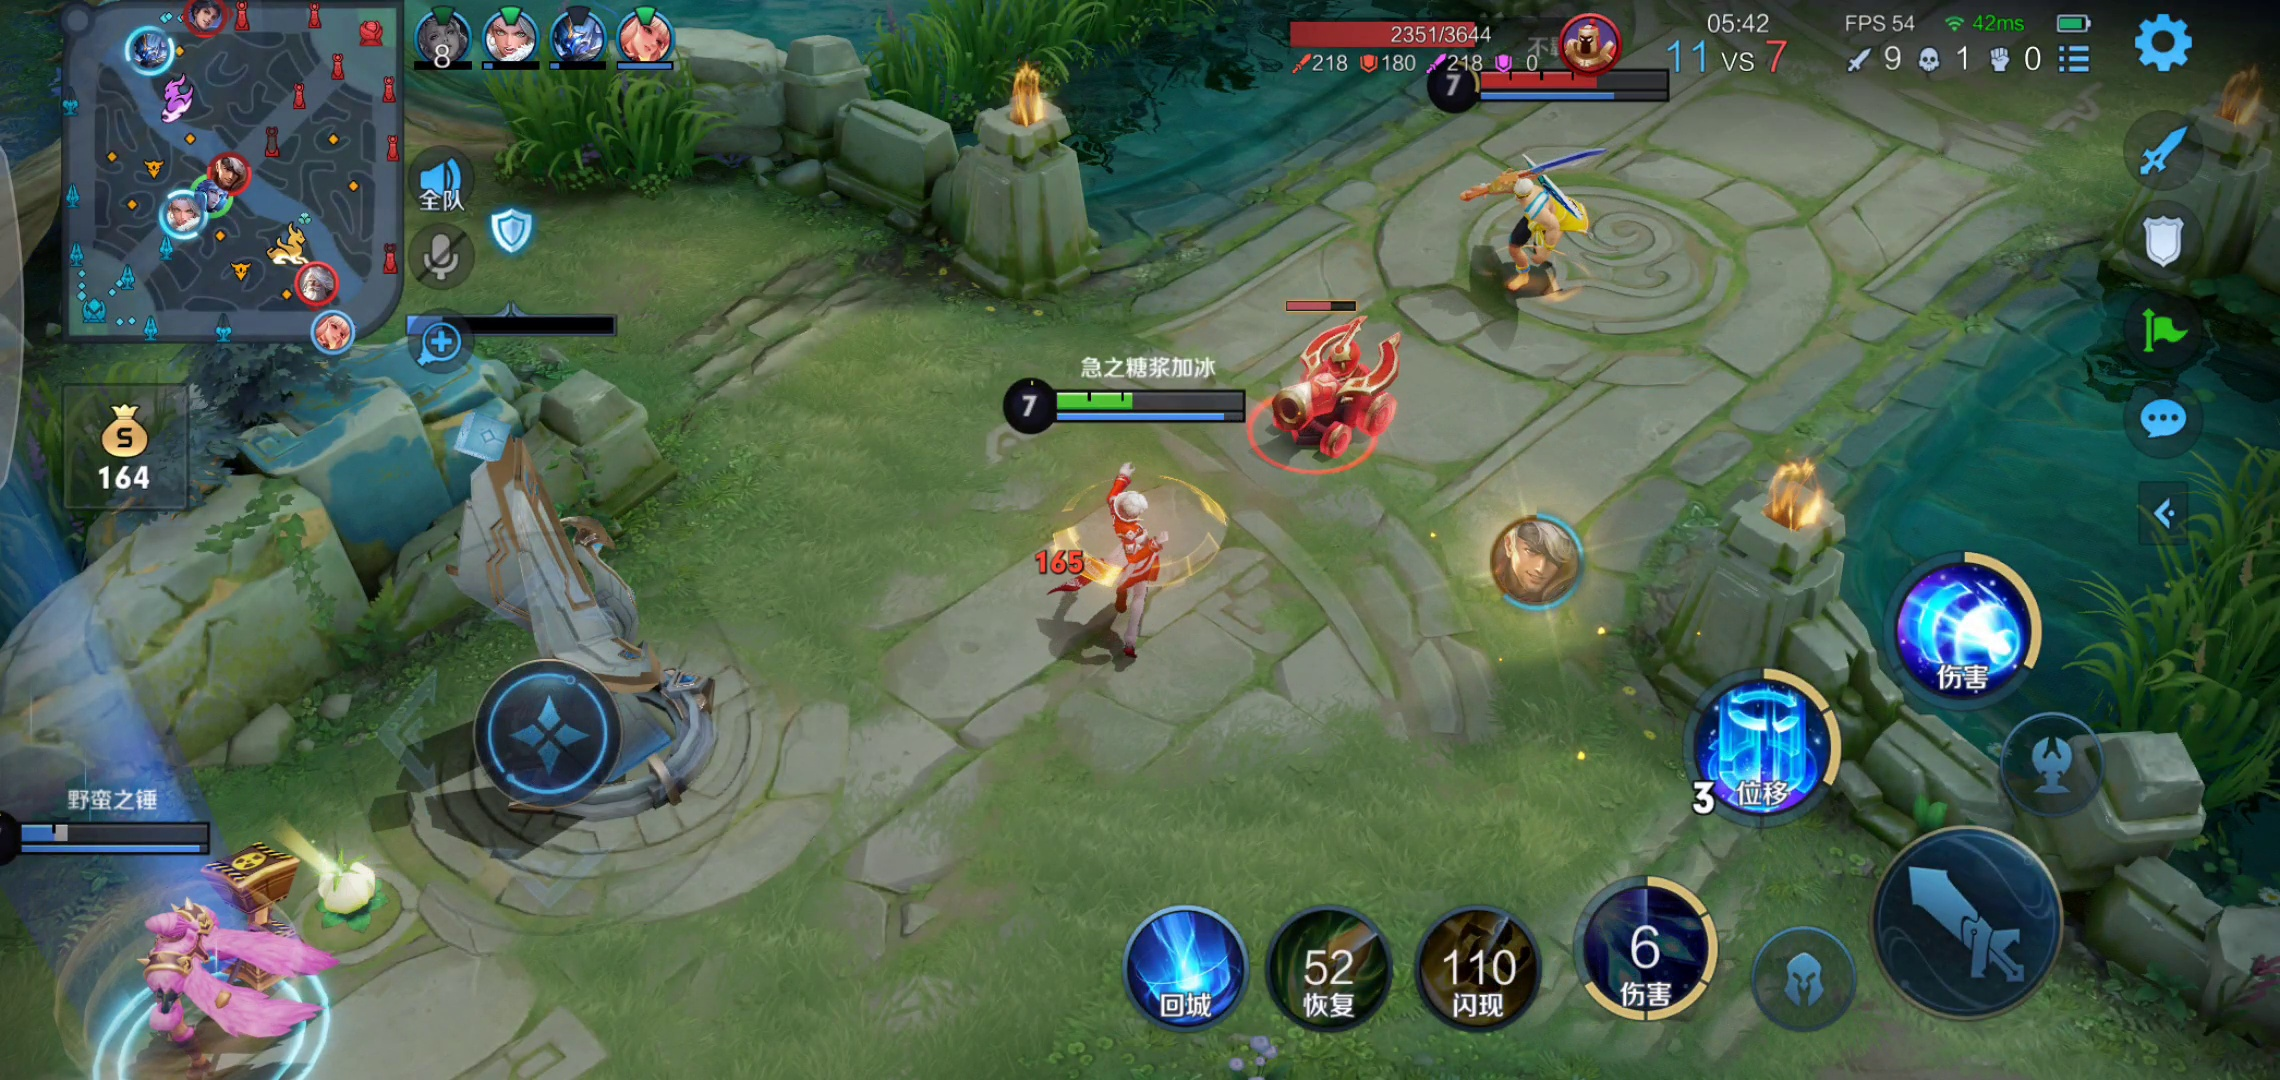grass: (2108, 454, 2280, 802), (870, 1, 1197, 126), (468, 64, 750, 201)
hero: (81, 872, 388, 1080), (1031, 455, 1245, 664), (1464, 150, 1605, 315)
soldier: (1243, 331, 1425, 459)
tower: (414, 413, 731, 826)
